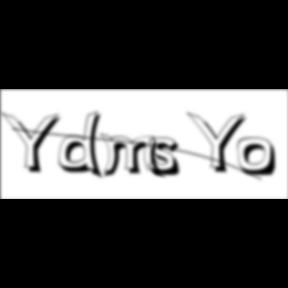Y: (0, 110, 68, 176), (186, 110, 252, 176)
d: (59, 110, 109, 182)
m: (99, 132, 167, 181)
o: (238, 137, 280, 179)
s: (148, 137, 188, 179)
